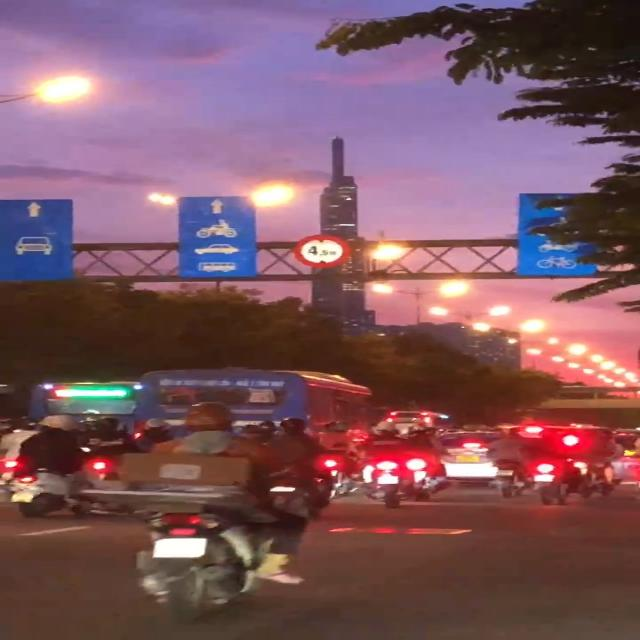Bien bao han che chieu cao: (292, 235, 352, 269)
